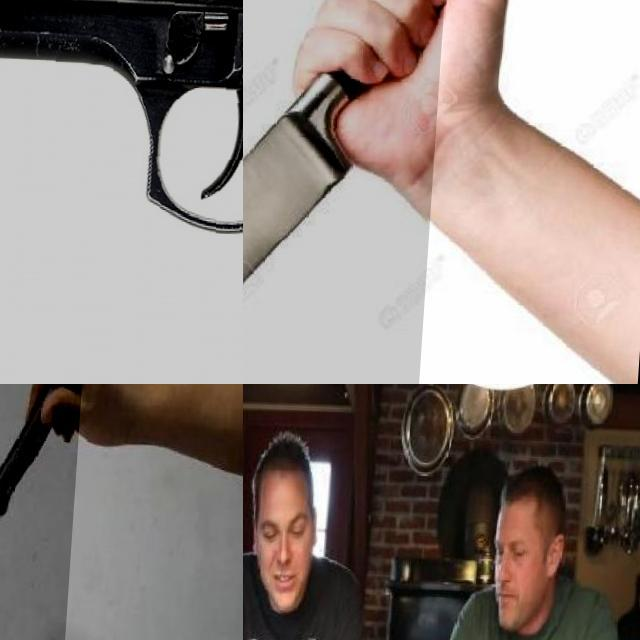-: (243, 0, 451, 384), (0, 384, 95, 640)
gun-knife-thesis - v11 Yolov5 augmented: (0, 0, 243, 384)
